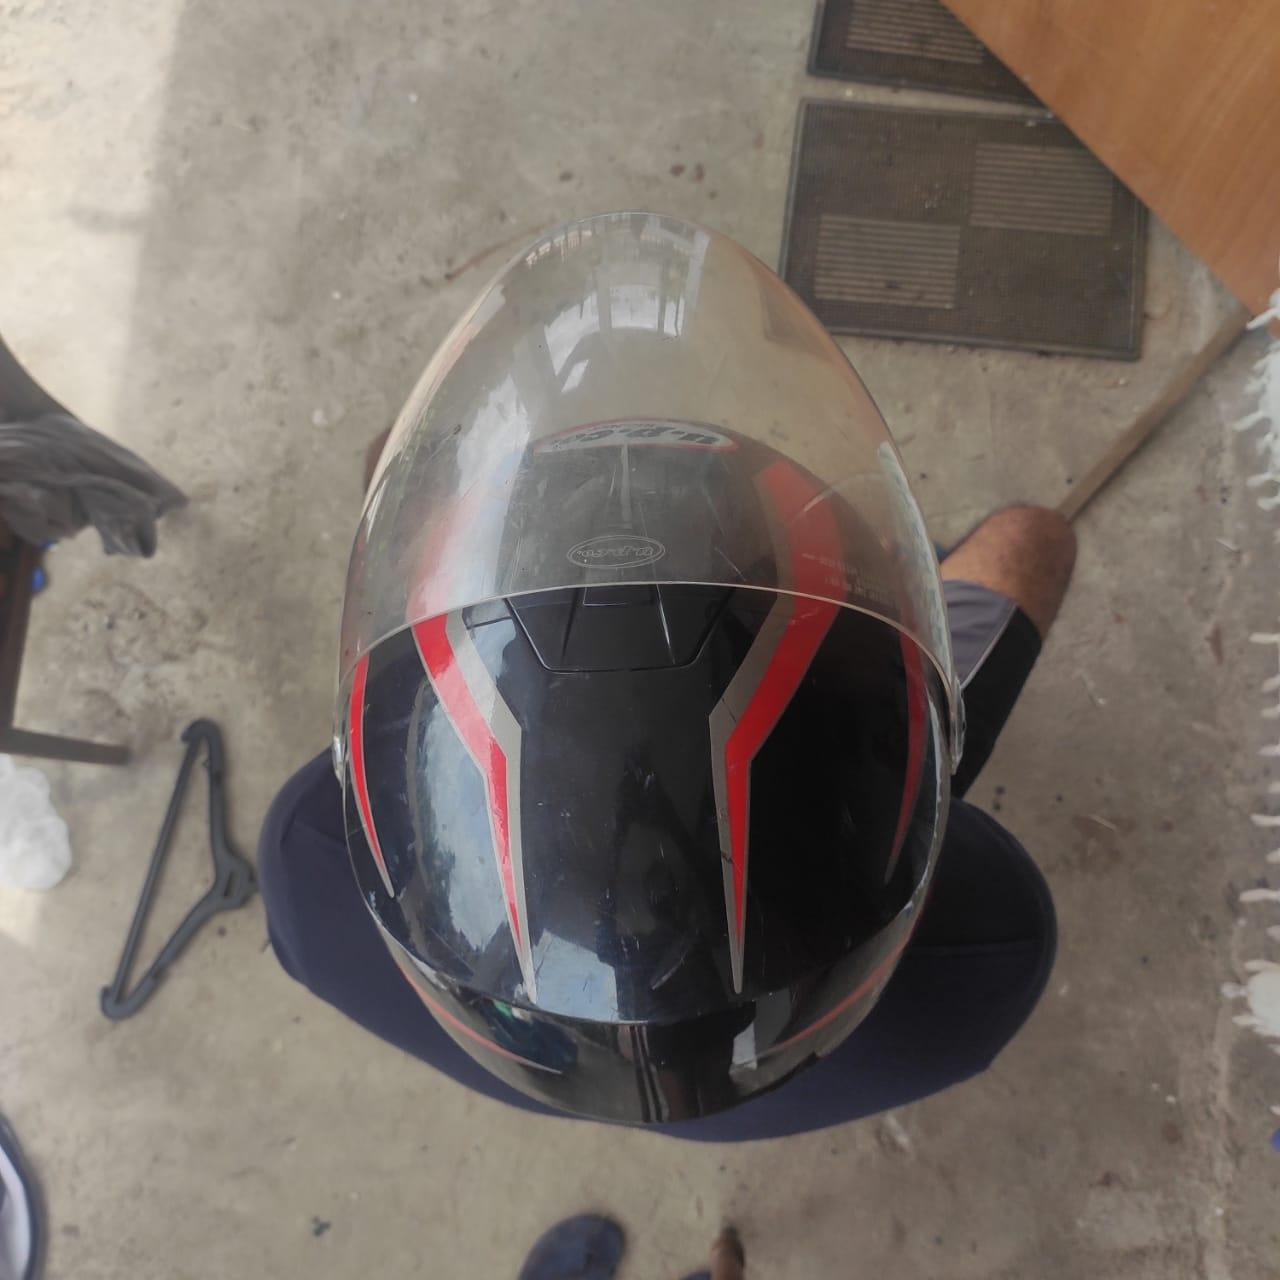helmet: (332, 207, 968, 1126)
